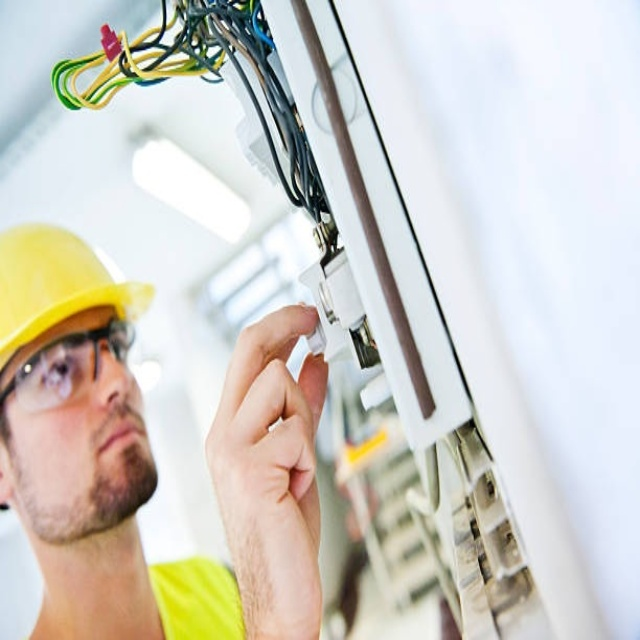Gafas: (1, 317, 133, 422)
Sin_guantes: (202, 301, 330, 632)
Sin_mascara: (75, 398, 150, 497)
